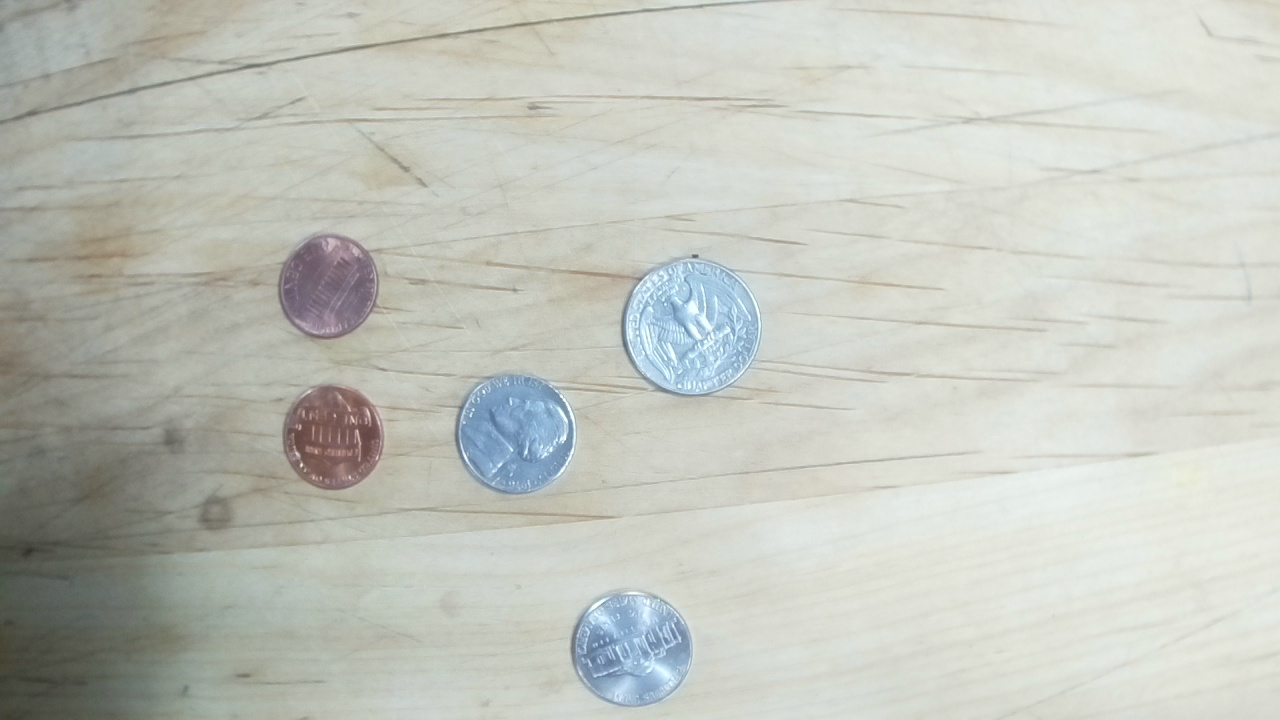nickel: (554, 585, 704, 713), (446, 367, 582, 501)
penny: (282, 382, 386, 492), (276, 234, 380, 340)
quarter: (621, 256, 763, 396)
